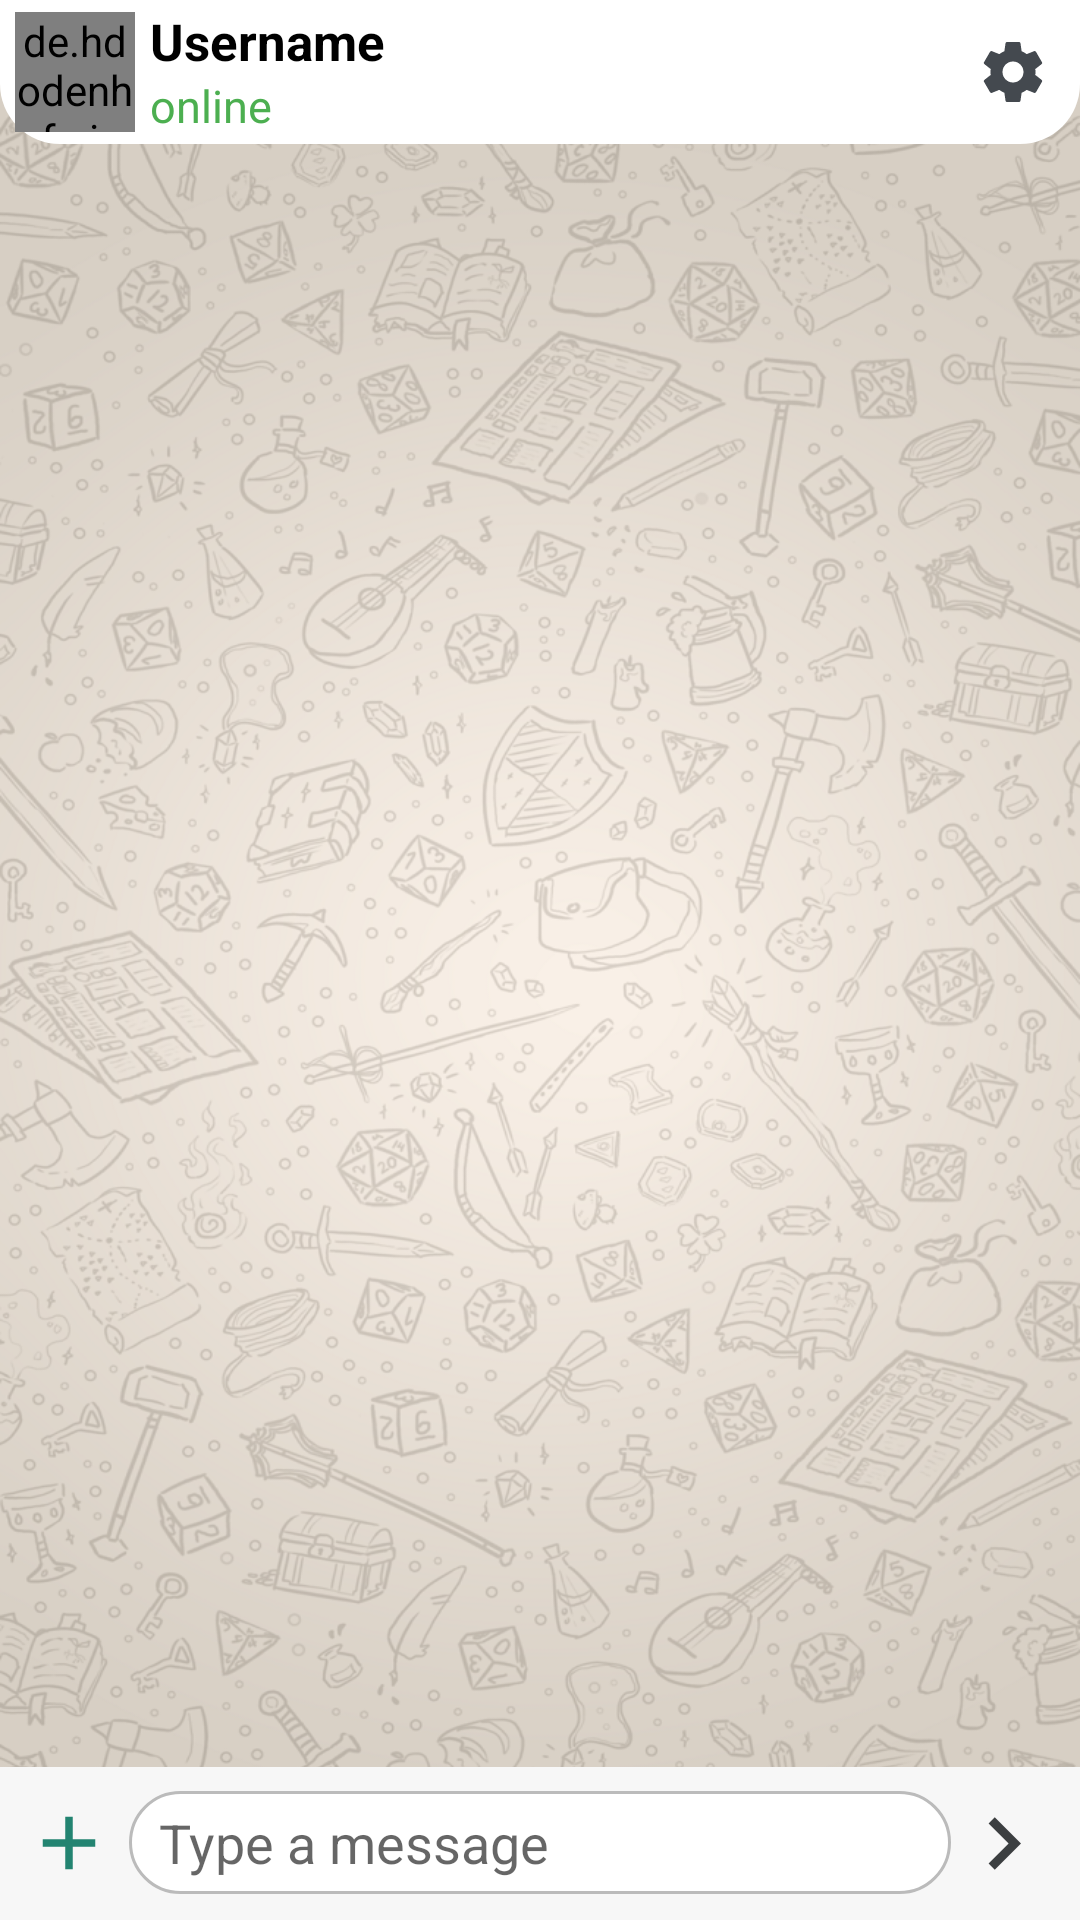

Icon bounding boxes for this 1080px×1920px phone screenshot, format (x1, y1, x2, y2):
add: (42, 1816, 96, 1870)
chevron right: (988, 1817, 1021, 1870)
settings: (984, 42, 1042, 102)
